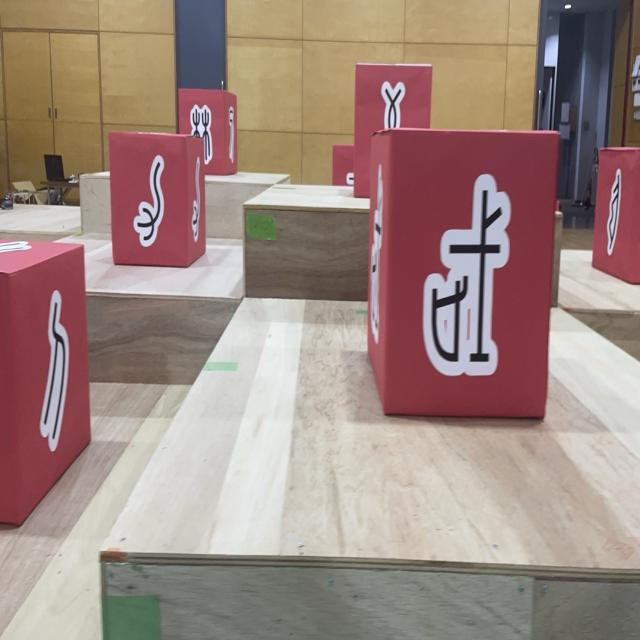10: (40, 290, 70, 452)
11: (606, 167, 622, 255)
13: (134, 154, 166, 248)
2: (188, 104, 214, 165)
3: (227, 106, 235, 162)
5: (422, 171, 512, 376), (368, 163, 384, 344)
7: (382, 82, 406, 129)
fighter: (368, 128, 560, 420), (0, 238, 91, 526), (110, 130, 205, 270), (353, 63, 432, 199), (590, 146, 640, 284), (179, 86, 237, 176), (333, 145, 354, 185)
